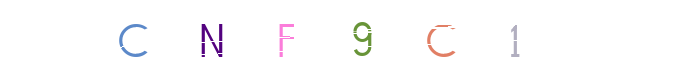1: (395, 0, 475, 80)
9: (306, 0, 386, 80)
C: (95, 0, 175, 80), (323, 0, 403, 80)
F: (298, 0, 378, 80)
N: (171, 0, 251, 80)
